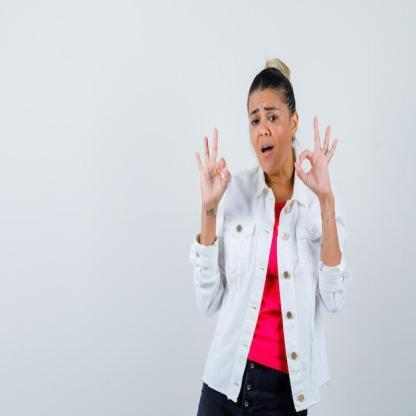ok: (292, 109, 340, 201), (193, 123, 235, 206)
